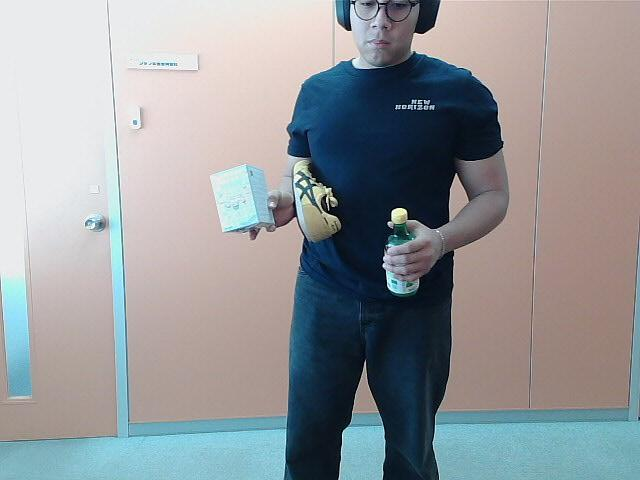Blind_box: (209, 163, 279, 244)
Lemon_sapporo: (379, 206, 422, 297)
Shoes: (288, 158, 347, 241)
